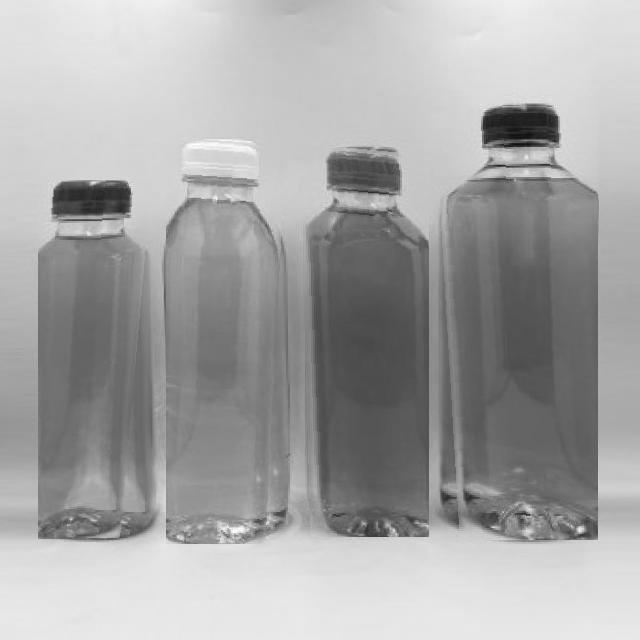plastic bottle: (434, 104, 598, 540), (299, 143, 429, 537), (166, 137, 286, 544), (38, 180, 152, 540)
